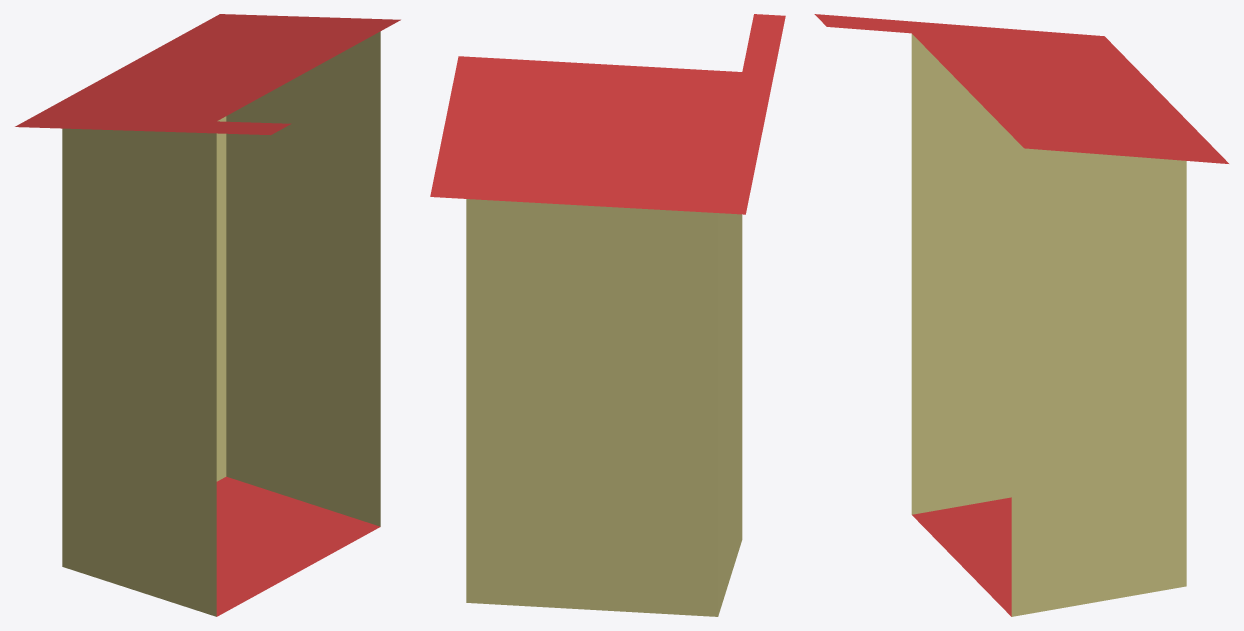
3 renders of one model, left to right at view 1: azimuth 30°, elevation 25°; view 2: azimuth 150°, elevation 25°; view 3: azimuth 270°, elevation 25°, orthographic. The views are drawn at different scales.
Size of the model in its own units: 5.86 by 6.28 by 8.38.
